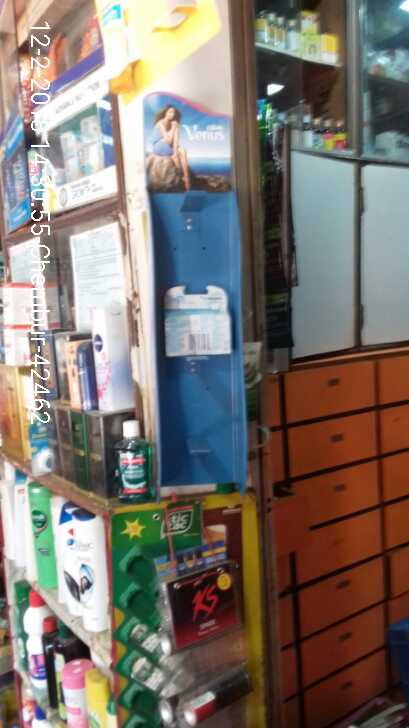reject: (148, 236, 268, 368)
